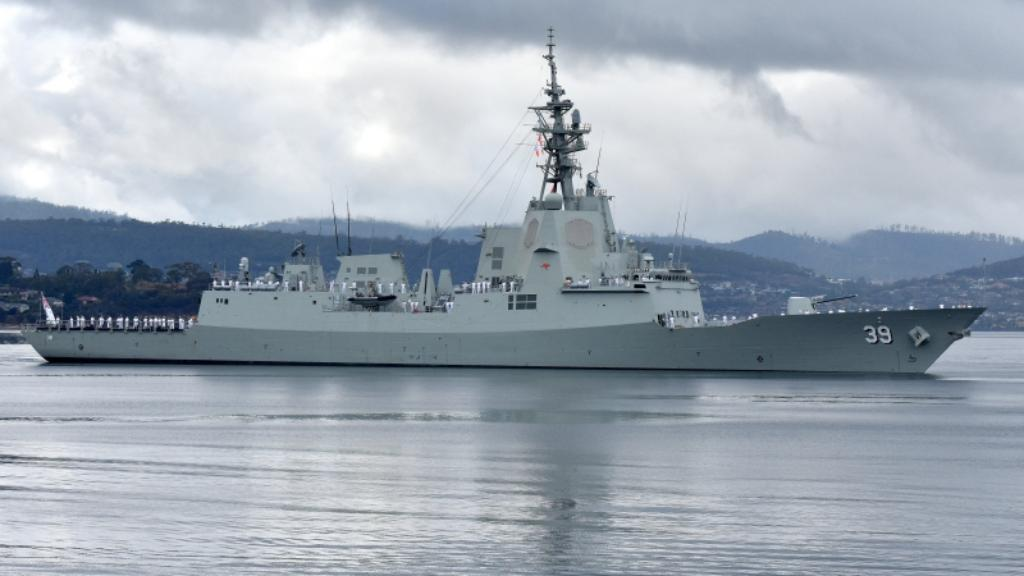Warship: (20, 23, 986, 379)
